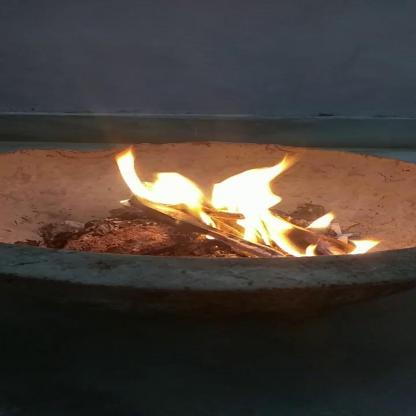fire: (113, 135, 380, 268)
